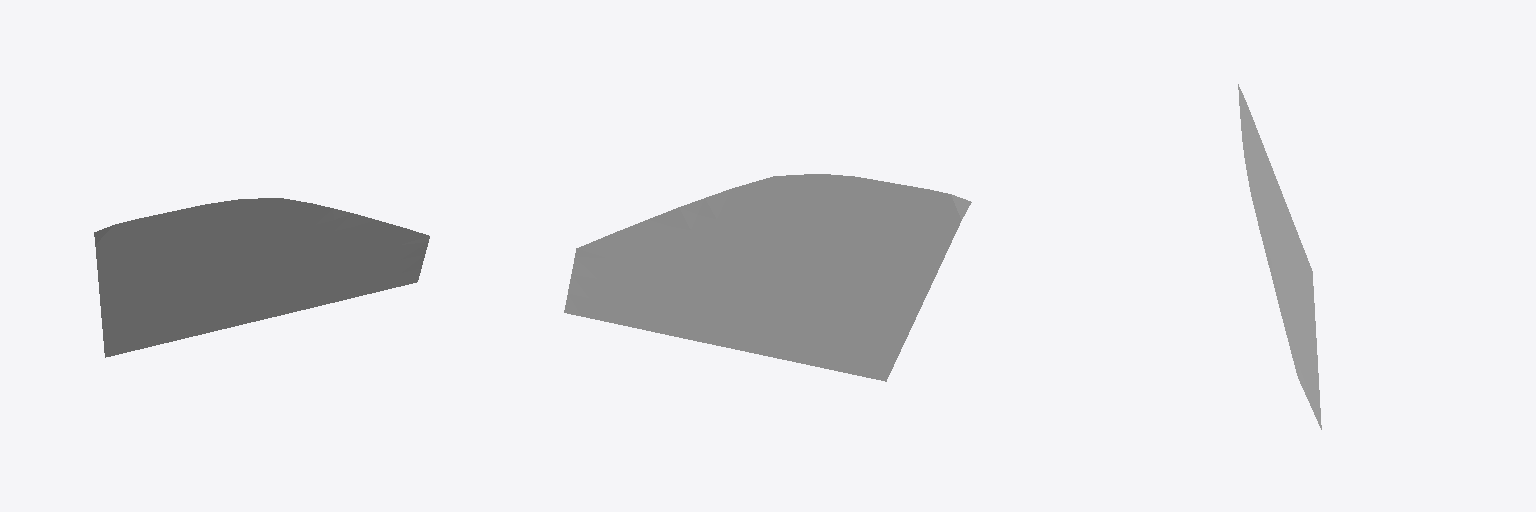
3 views of the same model, side by side, from view 1: azimuth 30°, elevation 25°; view 2: azimuth 150°, elevation 25°; view 3: azimuth 270°, elevation 25° (orthographic).
Parts seen in each view (by area): view 1: H026_265B_L_DTaSI_H026_265B_L; view 2: H026_265B_L_DTaSI_H026_265B_L; view 3: H026_265B_L_DTaSI_H026_265B_L.
Part boxes in pixels (x1,y1,x2,y2): H026_265B_L_DTaSI_H026_265B_L: (94, 198, 429, 357); H026_265B_L_DTaSI_H026_265B_L: (564, 174, 971, 381); H026_265B_L_DTaSI_H026_265B_L: (1238, 84, 1321, 429).
Size of the model in its own units: 119 by 53.63 by 23.68.